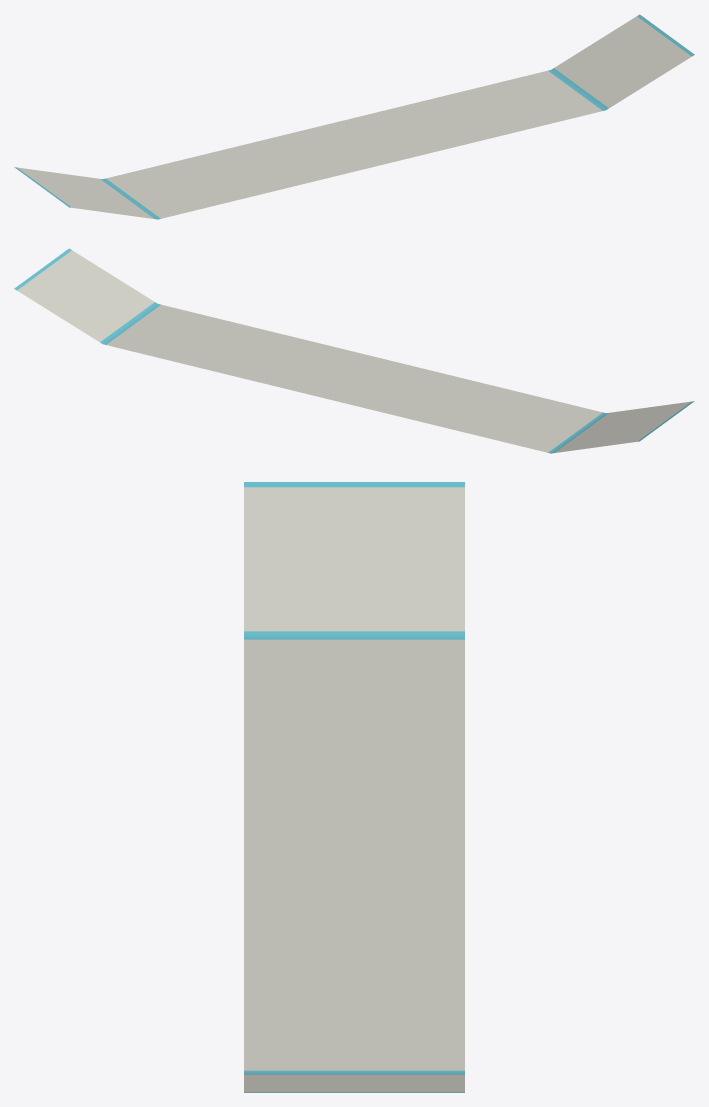
File: TrackPiece.fbx
3 renders of one model, top to bottom at view 1: azimuth 30°, elevation 25°; view 2: azimuth 150°, elevation 25°; view 3: azimuth 270°, elevation 25°, orthographic. The views are drawn at different scales.
Visible parts, largest first — view 1: Plane; view 2: Plane; view 3: Plane.
Part boxes in pixels (<box>): Plane: <box>14,14,694,219</box>; Plane: <box>14,248,694,453</box>; Plane: <box>244,482,464,1092</box>.
Bounding box in the file's own units: 10.15 × 196 × 30.
